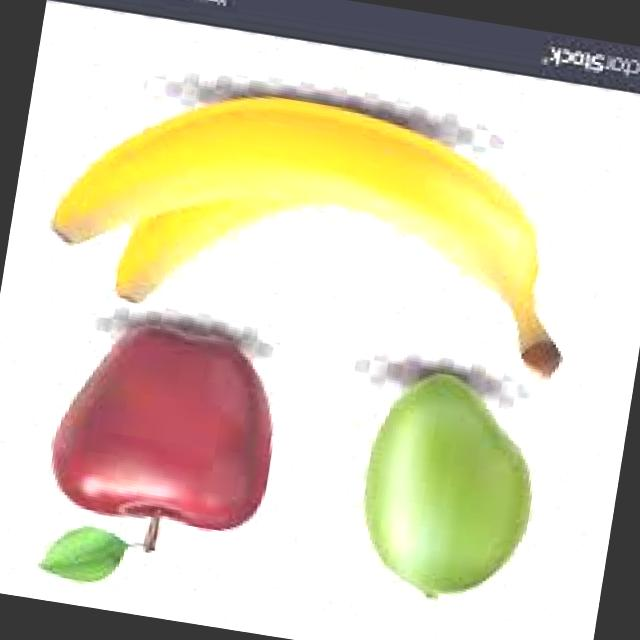Apple: (54, 310, 294, 550)
Banana: (38, 63, 600, 387)
Mango: (346, 366, 547, 606)
